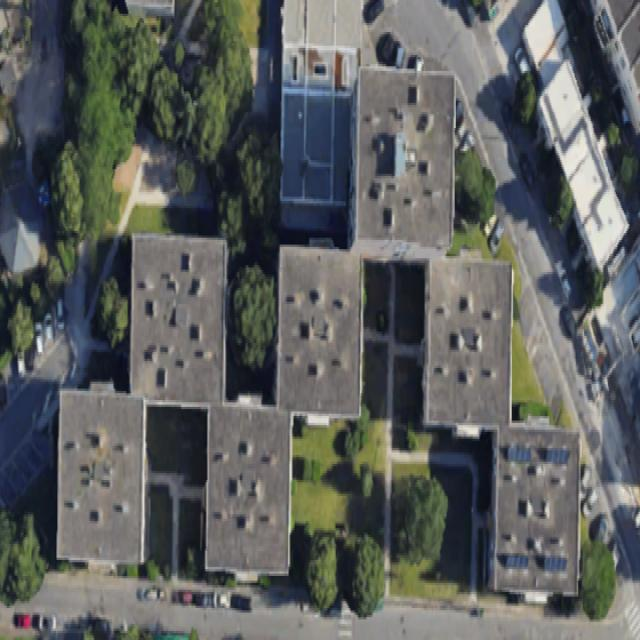immeuble: (347, 66, 455, 266), (130, 235, 224, 405), (489, 425, 581, 596), (57, 391, 145, 558), (428, 258, 513, 429), (279, 247, 363, 416), (205, 406, 291, 571)
